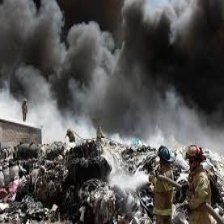smoke: (2, 2, 224, 134)
